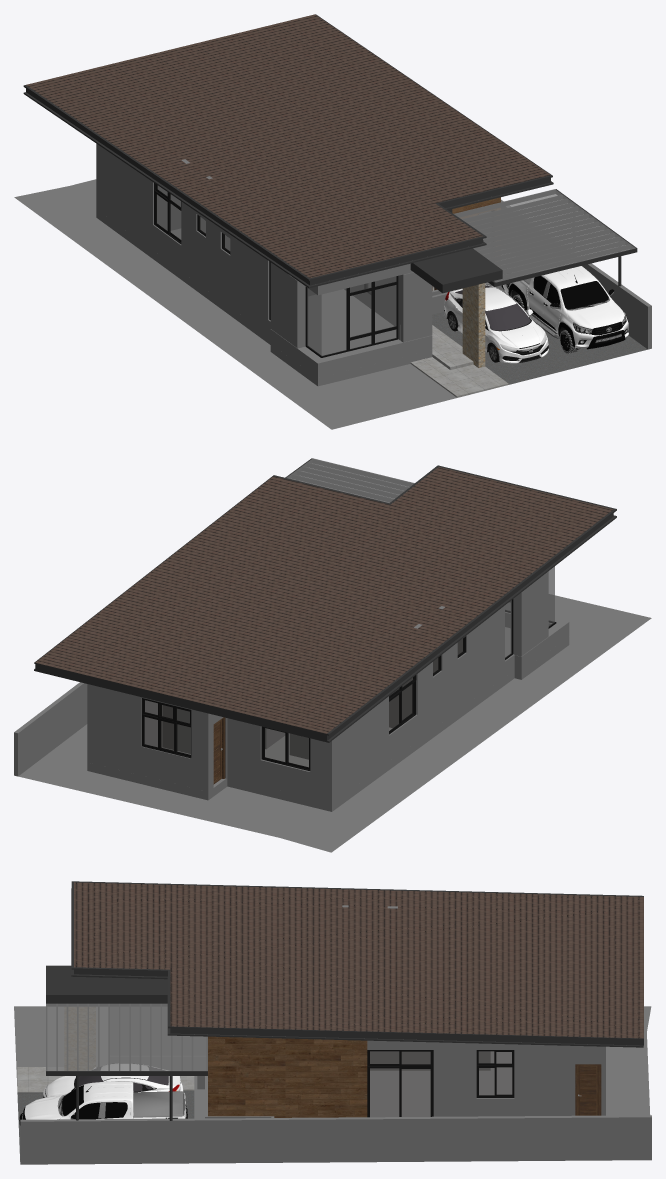
3 views of the same model, one above another, from view 1: azimuth 30°, elevation 25°; view 2: azimuth 150°, elevation 25°; view 3: azimuth 270°, elevation 25° (orthographic).
Parts seen in each view (by area): view 1: Component#1, root, Mesh_13, Component#5, Mesh_6, Component#3.001, Component#2, Agrupar#2.001, Mesh_5, Agrupar#2, Component#4.006, Component#4.002; view 2: Component#1, root, Mesh_13, Component#5, Group#674.003, Group#674.002; view 3: Component#1, root, Mesh_13, Component#5, Mesh_6, Group#470, Group#470.001, Group#613, Agrupar#2, Component#4, Diferença#1, Group#674.004 (+7 smaller).
Part boxes in pixels (bbox=[...]): Component#1: bbox=[23, 14, 553, 288]; root: bbox=[14, 179, 651, 429]; Mesh_13: bbox=[96, 143, 500, 377]; Component#5: bbox=[454, 189, 635, 282]; Mesh_6: bbox=[410, 209, 502, 367]; Component#3.001: bbox=[348, 276, 398, 351]; Component#2: bbox=[305, 287, 348, 357]; Agrupar#2.001: bbox=[503, 270, 610, 349]; Mesh_5: bbox=[432, 288, 473, 369]; Agrupar#2: bbox=[564, 266, 628, 345]; Component#4.006: bbox=[495, 248, 635, 286]; Component#4.002: bbox=[494, 244, 630, 281]; Component#1: bbox=[34, 465, 616, 742]; root: bbox=[14, 594, 651, 852]; Mesh_13: bbox=[87, 571, 569, 803]; Component#5: bbox=[286, 458, 414, 503]; Group#674.003: bbox=[262, 727, 287, 764]; Group#674.002: bbox=[287, 733, 309, 769]; Component#1: bbox=[71, 881, 643, 1047]; root: bbox=[14, 1006, 651, 1164]; Mesh_13: bbox=[110, 905, 605, 1117]; Component#5: bbox=[46, 1003, 207, 1070]; Mesh_6: bbox=[46, 965, 167, 1070]; Group#470: bbox=[399, 1067, 432, 1116]; Group#470.001: bbox=[368, 1067, 399, 1117]; Group#613: bbox=[577, 1065, 599, 1115]; Agrupar#2: bbox=[19, 1090, 185, 1125]; Component#4: bbox=[46, 1071, 207, 1075]; Diferença#1: bbox=[133, 1103, 183, 1117]; Group#674.004: bbox=[477, 1066, 496, 1097].
Bounding box in the file's own units: 11.86 × 4.47 × 20.2.
47 materials, 12 textured.
